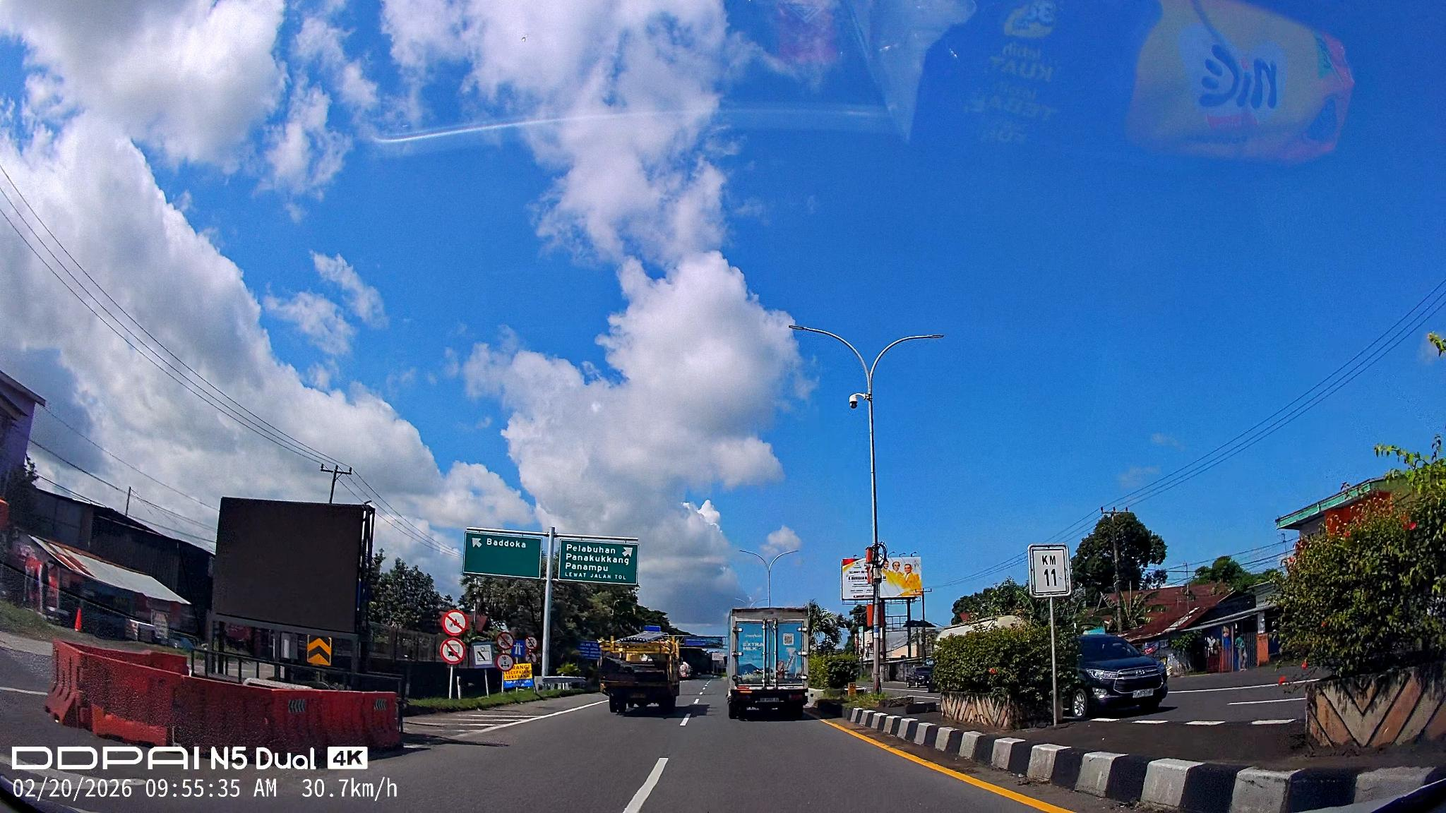rambu_teks: (461, 530, 543, 580), (558, 538, 641, 586)
